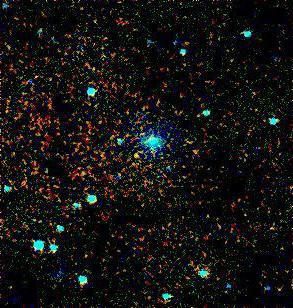star: (120, 142, 150, 172)
